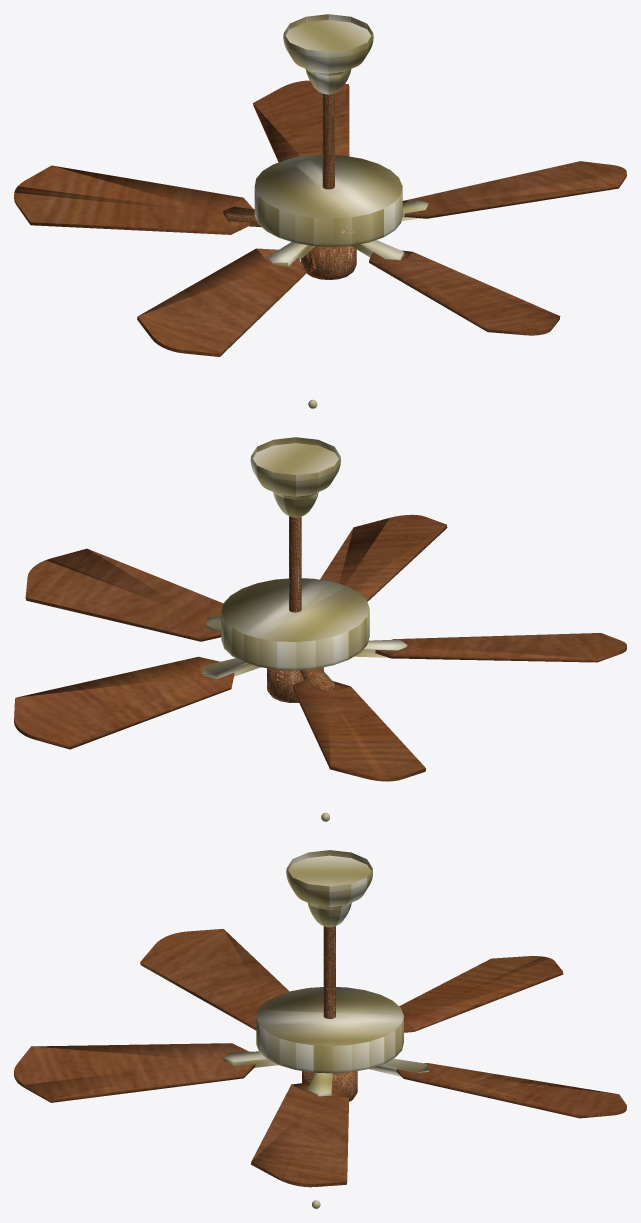
File: fan.dae
3 views of the same model, one above another, from view 1: azimuth 30°, elevation 25°; view 2: azimuth 150°, elevation 25°; view 3: azimuth 270°, elevation 25° (orthographic). The views are drawn at different scales.
Parts seen in each view (by area): view 1: ceiling_fan, Group1; view 2: ceiling_fan, Group1; view 3: ceiling_fan, Group1.
Boxes of the visible parts, <box> form: ceiling_fan: <box>14,80,626,356</box>; Group1: <box>283,14,373,94</box>; ceiling_fan: <box>14,514,626,781</box>; Group1: <box>250,437,340,517</box>; ceiling_fan: <box>14,926,626,1187</box>; Group1: <box>286,850,372,927</box>.
Size of the model in its own units: 71.26 by 74.28 by 46.92.
5 materials, 4 textured.
